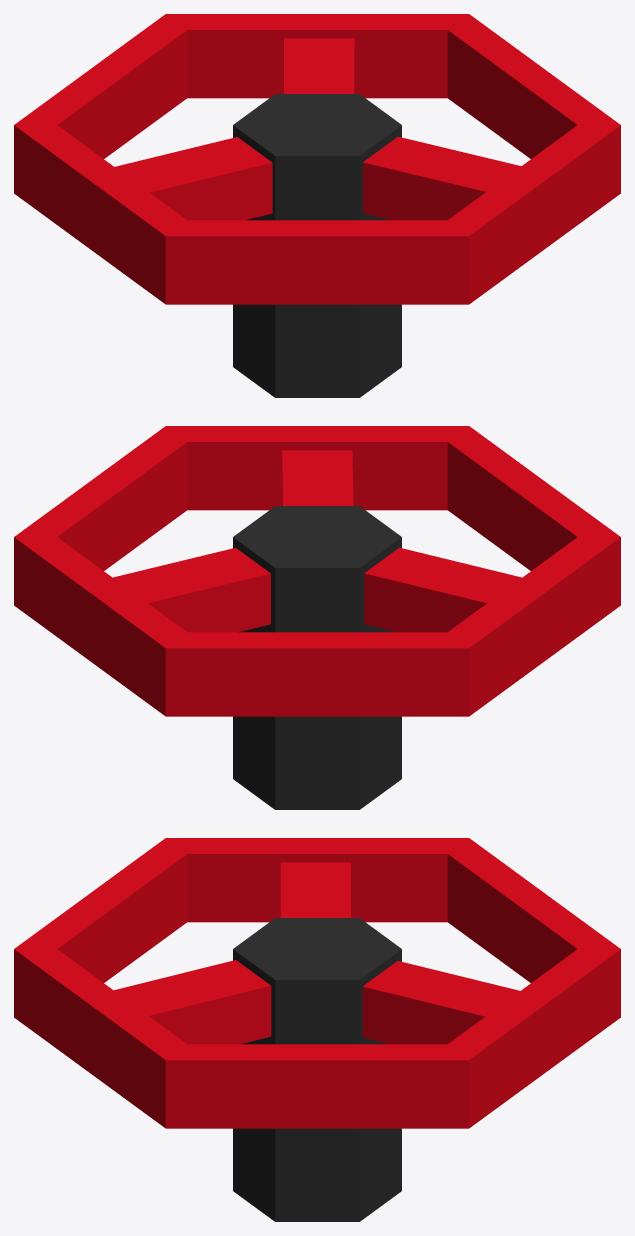
File: ventel.fbx
The picture shows the model from 3 angles, top to bottom: view 1: azimuth 30°, elevation 25°; view 2: azimuth 150°, elevation 25°; view 3: azimuth 270°, elevation 25°; orthographic projection.
Visible parts, largest first — view 1: Cylinder; view 2: Cylinder; view 3: Cylinder.
Part boxes in pixels (left/top/right/bottom): Cylinder: left=14, top=14, right=620, bottom=397; Cylinder: left=14, top=426, right=620, bottom=809; Cylinder: left=14, top=838, right=620, bottom=1221.
Bounding box in the file's own units: 785 × 399 × 906.
